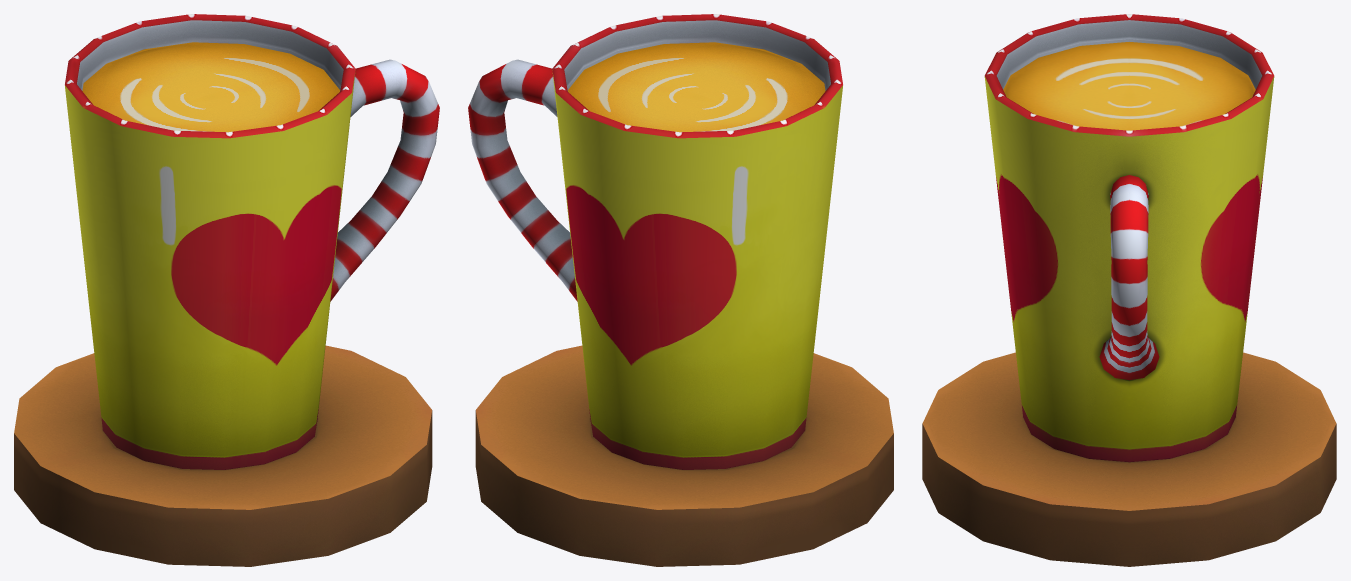
File: Coffee.fbx
3 renders of one model, left to right at view 1: azimuth 30°, elevation 25°; view 2: azimuth 150°, elevation 25°; view 3: azimuth 270°, elevation 25°, orthographic.
Visible parts, largest first — view 1: 061; view 2: 061; view 3: 061.
Part boxes in pixels (x1,y1,x2,y2): 061: [14, 14, 439, 566]; 061: [468, 14, 893, 566]; 061: [922, 14, 1336, 566].
Size of the model in its own units: 49.36 by 48.54 by 45.42.
1 material, 1 textured.
